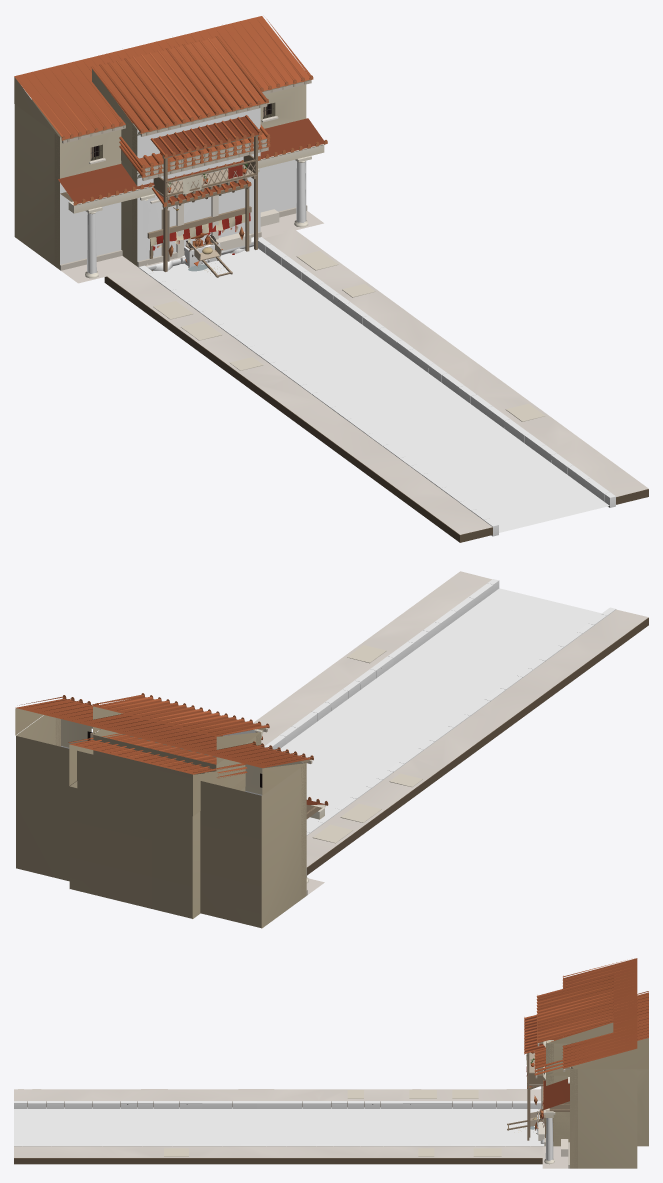
File: street-hd-far.glb
The picture shows the model from 3 angles, top to bottom: view 1: azimuth 30°, elevation 25°; view 2: azimuth 150°, elevation 25°; view 3: azimuth 270°, elevation 25°; orthographic projection. The views are drawn at different scales.
Parts seen in each view (by area): view 1: Road_Segment_basalt, Colonnade_terracotta, House_B_terracotta, Colonnade_plaster, Pavement_L_signinum, Pavement_R_signinum, Pavement_L_kerb, Colonnade_f_colonnade, Pavement_R_kerb, Pavement_R_plaster, House_B_planks, House_B_f_houseB (+12 smaller); view 2: Colonnade_plaster, Road_Segment_basalt, Bakery_plaster, Pavement_R_signinum, Pavement_L_signinum, Colonnade_terracotta, Pavement_L_kerb, Pavement_R_kerb, House_B_terracotta, Pavement_R_plaster, House_B_plaster, Bakery_terracotta (+1 smaller); view 3: Road_Segment_basalt, Colonnade_plaster, Pavement_L_signinum, Pavement_R_signinum, Colonnade_terracotta, Pavement_R_kerb, House_B_terracotta, Pavement_L_plaster, Pavement_L_kerb, Bakery_plaster, House_B_plaster, House_A_plaster (+5 smaller).
Part boxes in pixels (left/top/right/bottom): Road_Segment_basalt: left=153, top=246, right=609, bottom=532; Colonnade_terracotta: left=14, top=16, right=327, bottom=205; House_B_terracotta: left=91, top=36, right=268, bottom=192; Colonnade_plaster: left=14, top=77, right=324, bottom=278; Pavement_L_signinum: left=264, top=228, right=648, bottom=496; Pavement_R_signinum: left=105, top=268, right=492, bottom=534; Pavement_L_kerb: left=258, top=237, right=616, bottom=507; Colonnade_f_colonnade: left=60, top=160, right=306, bottom=264; Pavement_R_kerb: left=138, top=265, right=498, bottom=536; Pavement_R_plaster: left=104, top=276, right=492, bottom=542; House_B_planks: left=140, top=103, right=267, bottom=271; House_B_f_houseB: left=137, top=108, right=260, bottom=261; Colonnade_plaster: left=15, top=708, right=325, bottom=928; Road_Segment_basalt: left=280, top=588, right=601, bottom=828; Bakery_plaster: left=69, top=744, right=245, bottom=918; Pavement_R_signinum: left=306, top=609, right=648, bottom=867; Pavement_L_signinum: left=253, top=571, right=491, bottom=745; Colonnade_terracotta: left=15, top=695, right=328, bottom=805; Pavement_L_kerb: left=264, top=579, right=499, bottom=750; Pavement_R_kerb: left=306, top=607, right=616, bottom=843; House_B_terracotta: left=92, top=693, right=269, bottom=739; Pavement_R_plaster: left=307, top=617, right=648, bottom=875; House_B_plaster: left=93, top=706, right=263, bottom=778; Bakery_terracotta: left=68, top=733, right=243, bottom=774; Road_Segment_basalt: left=14, top=1109, right=540, bottom=1145; Colonnade_plaster: left=543, top=1049, right=637, bottom=1168; Pavement_L_signinum: left=14, top=1146, right=545, bottom=1157; Pavement_R_signinum: left=14, top=1089, right=541, bottom=1100; Colonnade_terracotta: left=543, top=958, right=637, bottom=1111; Pavement_R_kerb: left=14, top=1090, right=541, bottom=1108; House_B_terracotta: left=524, top=975, right=613, bottom=1066; Pavement_L_plaster: left=14, top=1158, right=542, bottom=1164; Pavement_L_kerb: left=14, top=1143, right=544, bottom=1156; Bakery_plaster: left=543, top=1038, right=648, bottom=1146; House_B_plaster: left=543, top=1022, right=613, bottom=1067; House_A_plaster: left=543, top=1069, right=569, bottom=1146.
Size of the model in its own units: 12.38 by 8.27 by 35.8.
